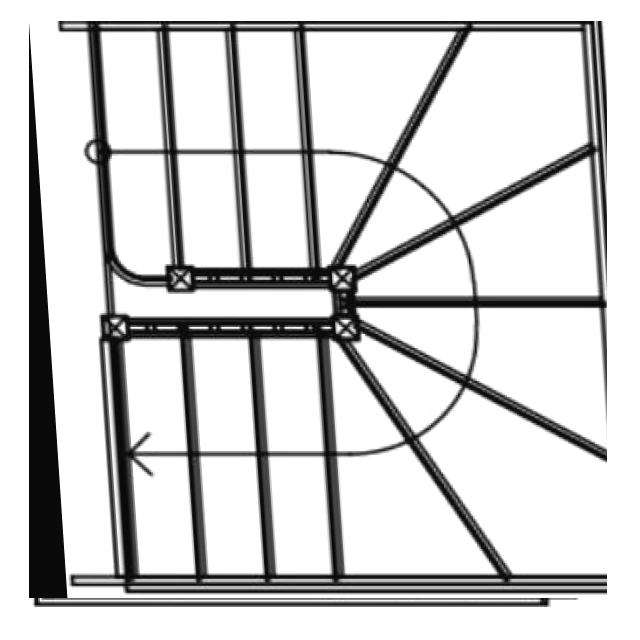stair: (29, 21, 607, 598)
